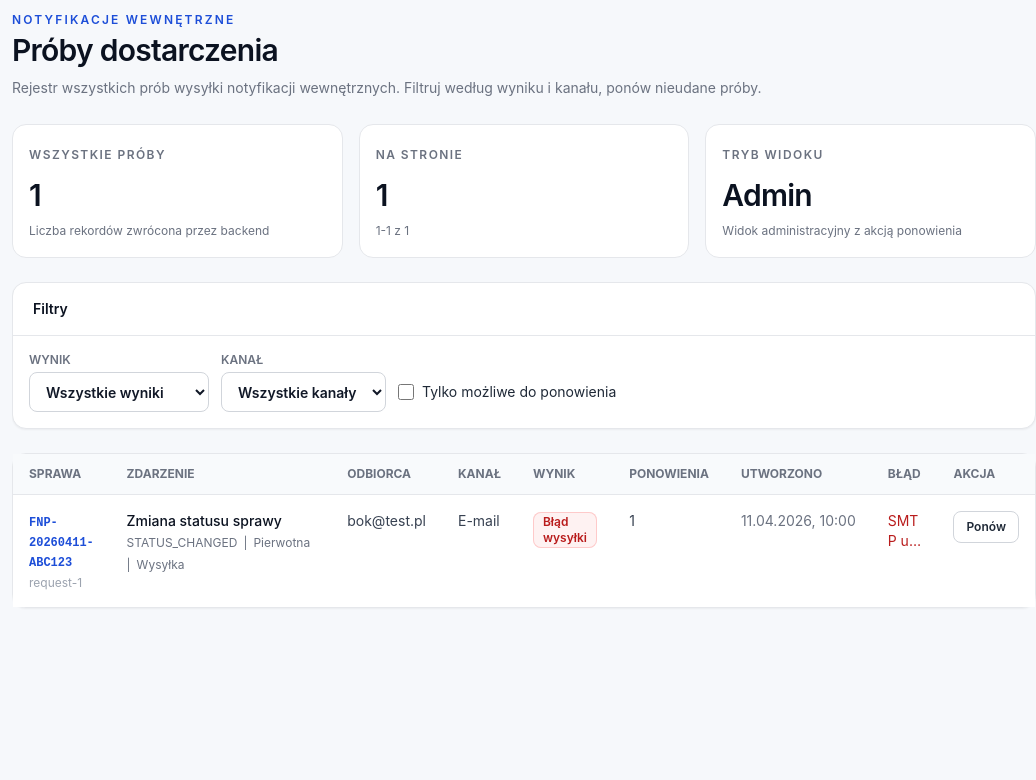
InternalNotificationAttemptsPage › shows retry error feedback without clearing loaded attempts
Click the button "Ponów": (986, 527) [954,511,1019,543]
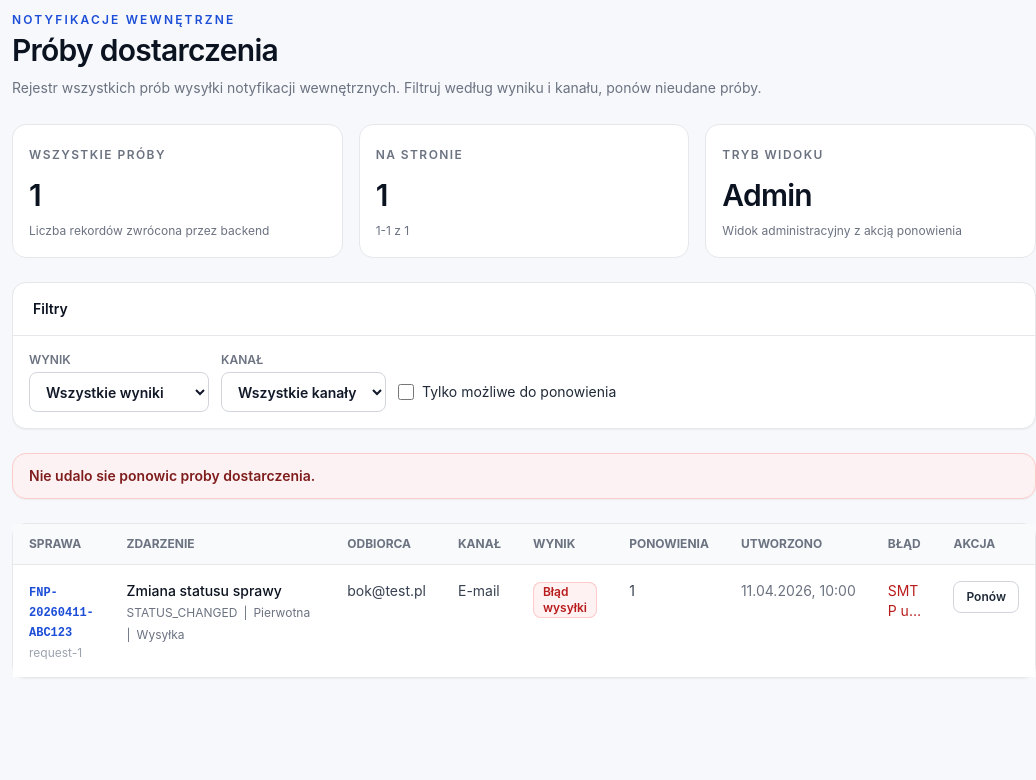
Expected: the text "Zmiana statusu sprawy" is shown, [127,582,282,599]
Result: the text "Nie udalo sie ponowic proby dostarczenia." is shown at [29,466,315,486]
